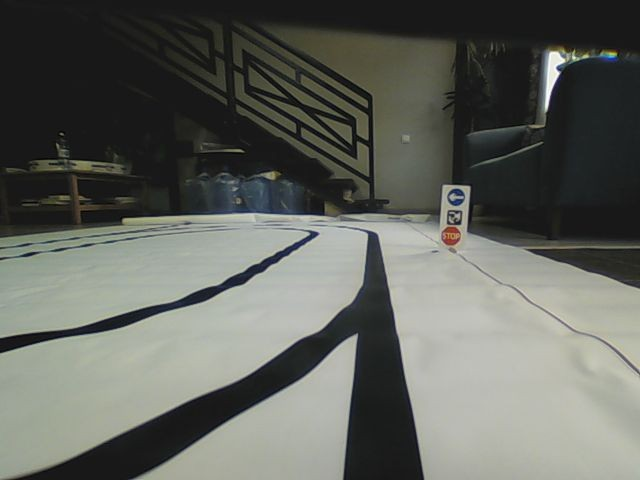Stop: (441, 225, 462, 245)
